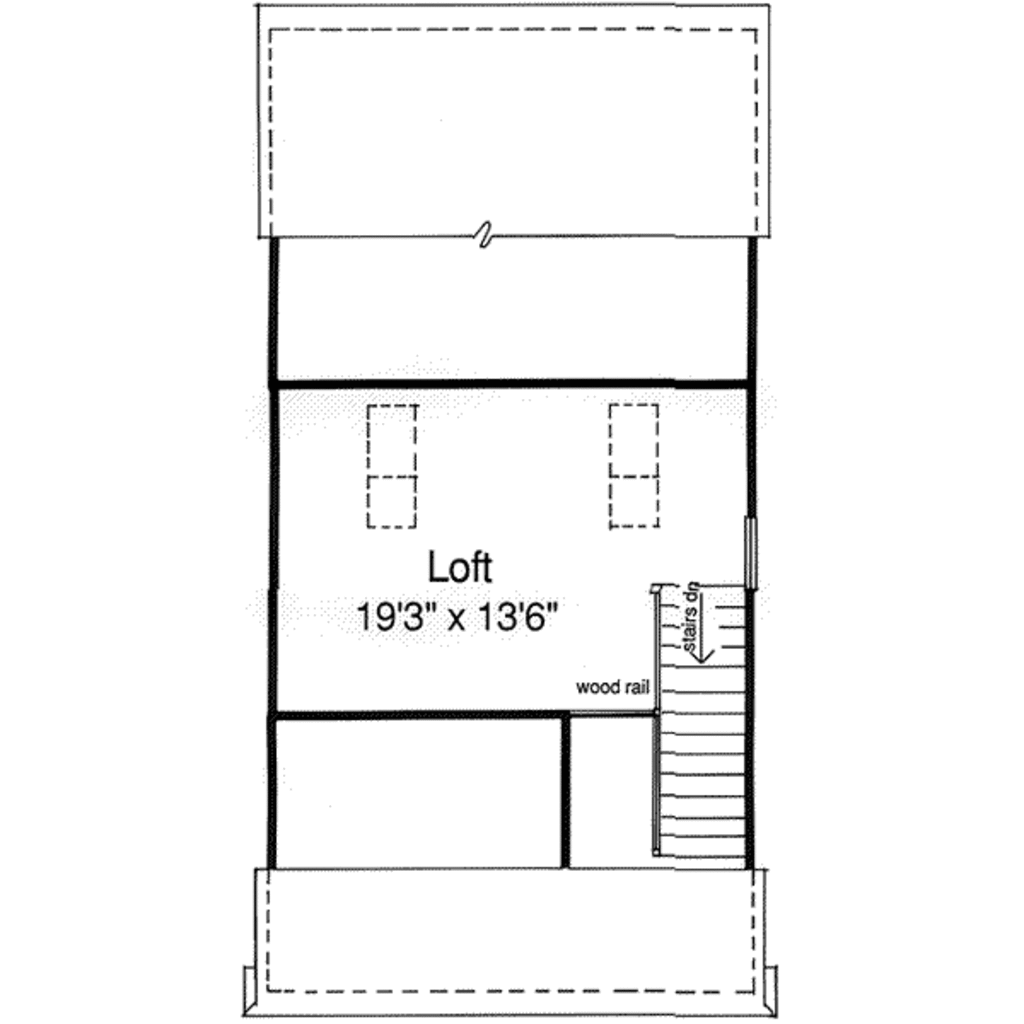stairs: (645, 584, 752, 870)
window: (744, 511, 767, 585)
